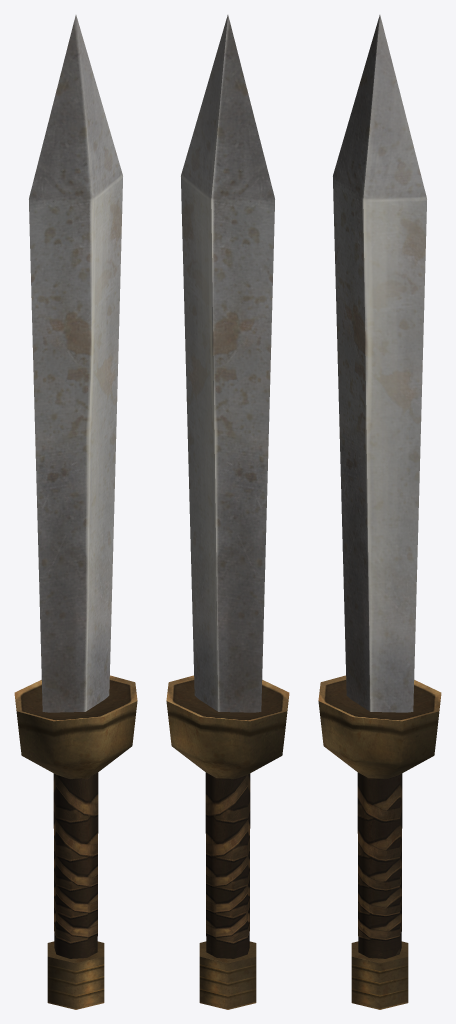
Rendered from 43_weapon.FBX.
3 renders of one model, left to right at view 1: azimuth 30°, elevation 25°; view 2: azimuth 150°, elevation 25°; view 3: azimuth 330°, elevation 25°, orthographic.
Parts seen in each view (by area): view 1: 43_dagger; view 2: 43_dagger; view 3: 43_dagger.
Part boxes in pixels (box(x1,y1,x2,y2)): 43_dagger: box(14, 15, 137, 1009); 43_dagger: box(166, 15, 289, 1009); 43_dagger: box(318, 15, 441, 1009).
Size of the model in its own units: 234 by 1848 by 189.
